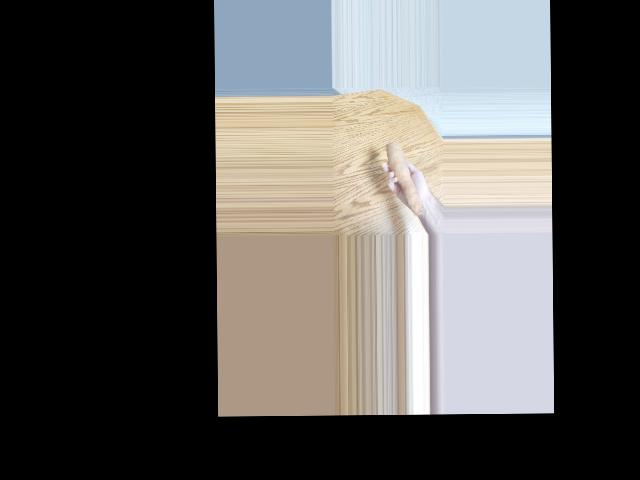sweet_potato: (384, 141, 424, 218)
